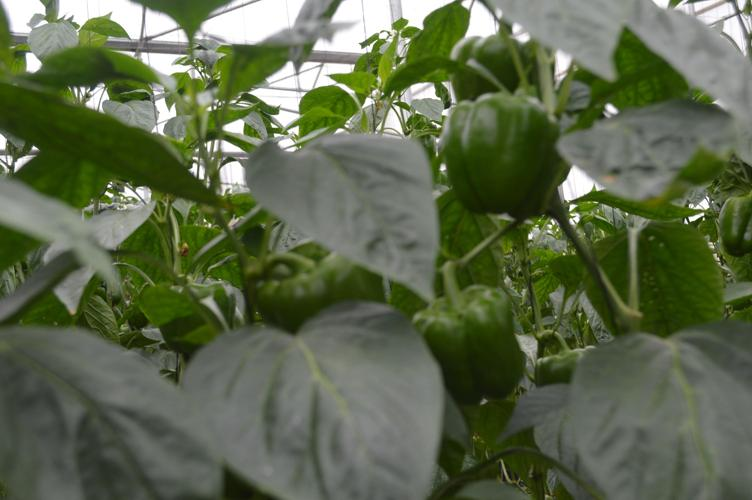BellPepper: (437, 85, 585, 214), (245, 226, 393, 333), (418, 289, 528, 399), (441, 34, 545, 95)
